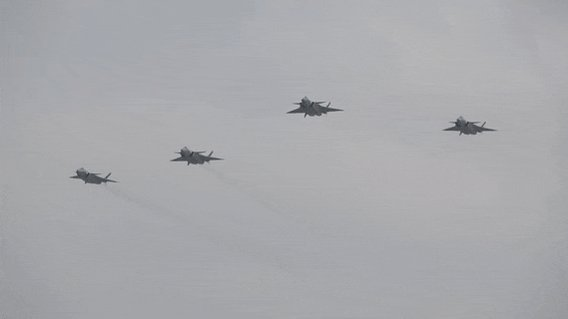J20: (285, 95, 345, 119), (441, 115, 499, 137), (169, 145, 225, 167), (68, 167, 122, 186)
